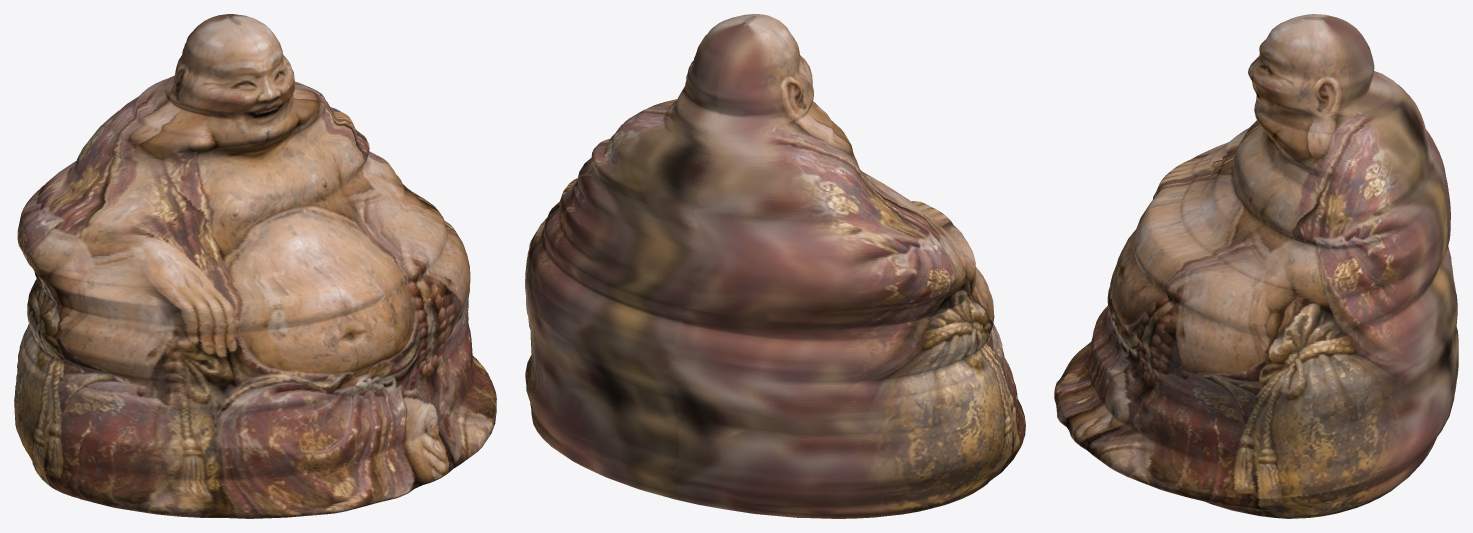
The model's file is budai.glb.
3 renders of one model, left to right at view 1: azimuth 30°, elevation 25°; view 2: azimuth 150°, elevation 25°; view 3: azimuth 270°, elevation 25°, orthographic. The views are drawn at different scales.
Visible parts, largest first — view 1: budai; view 2: budai; view 3: budai.
Part boxes in pixels (left/top/right/bottom): budai: left=14, top=14, right=496, bottom=518; budai: left=525, top=14, right=1025, bottom=518; budai: left=1054, top=14, right=1458, bottom=518.
Size of the model in its own units: 1.11 by 1 by 0.8989.
Materials: 1 (1 with a texture image).
